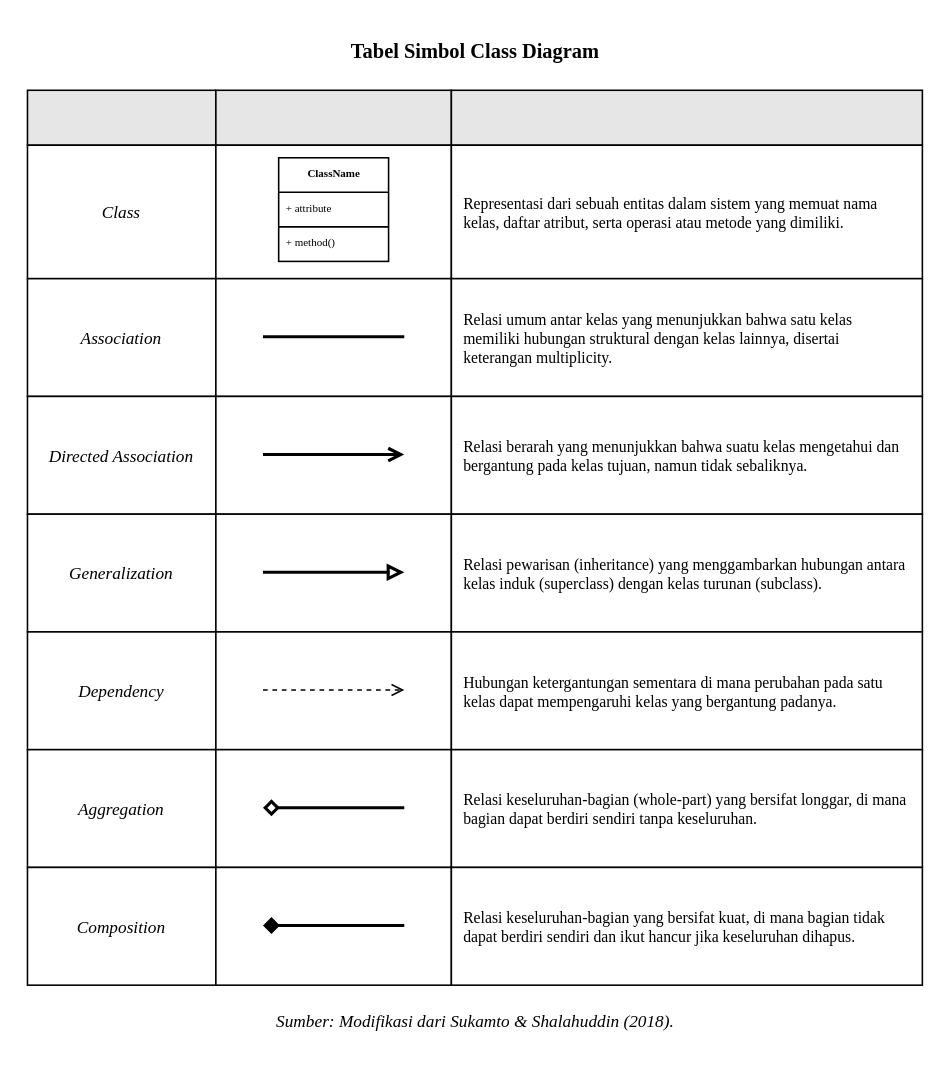
Some shapes in this 950 by 1066 pixel diagram are drawn without their labels. Here are the shapes that lost their labels. From the top down, the centre of each, then its label:
the point at 121,117: Nama
the point at 332,117: Simbol
the point at 686,117: Deskripsi
